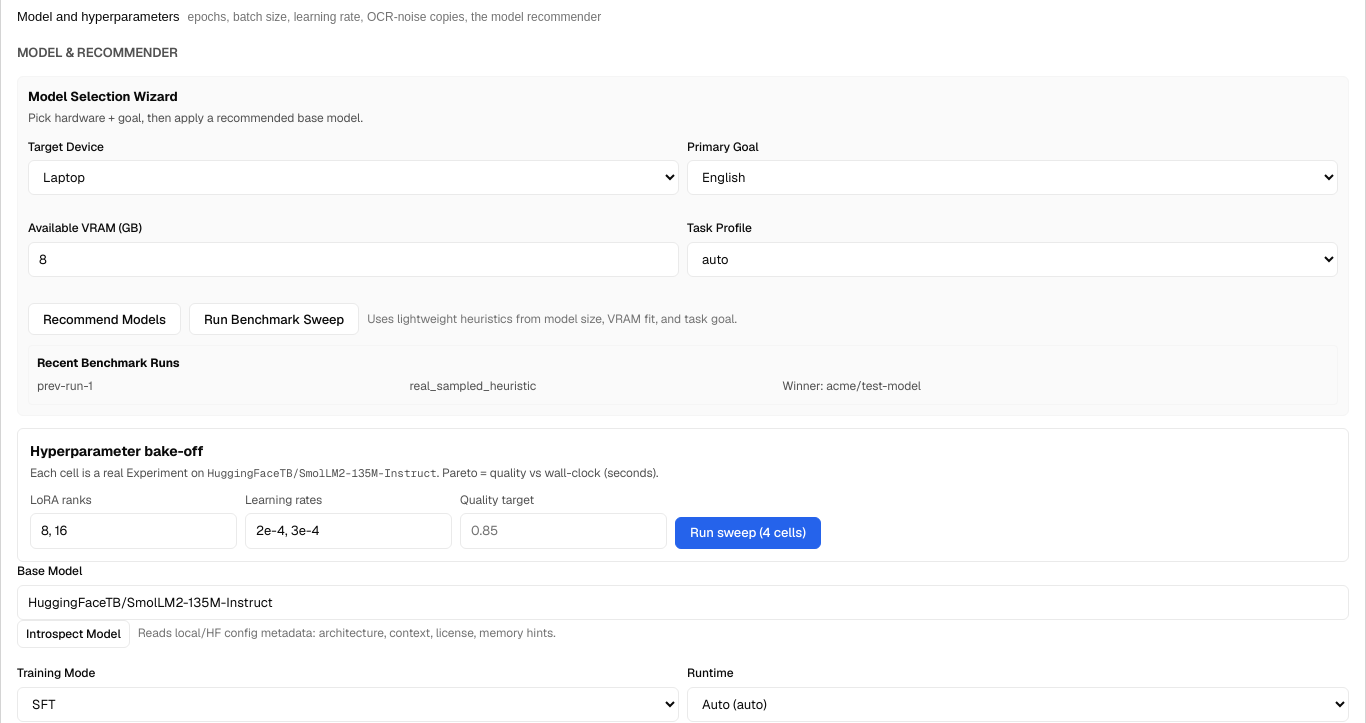
it: TrainingPanel model wizard › applies recommended model defaults from wizard card
The width and height of the screenshot is (1366, 723).
(page scrolled)
Click the button "Recommend Models". click: [104, 319]
box: [28,303,181,335]
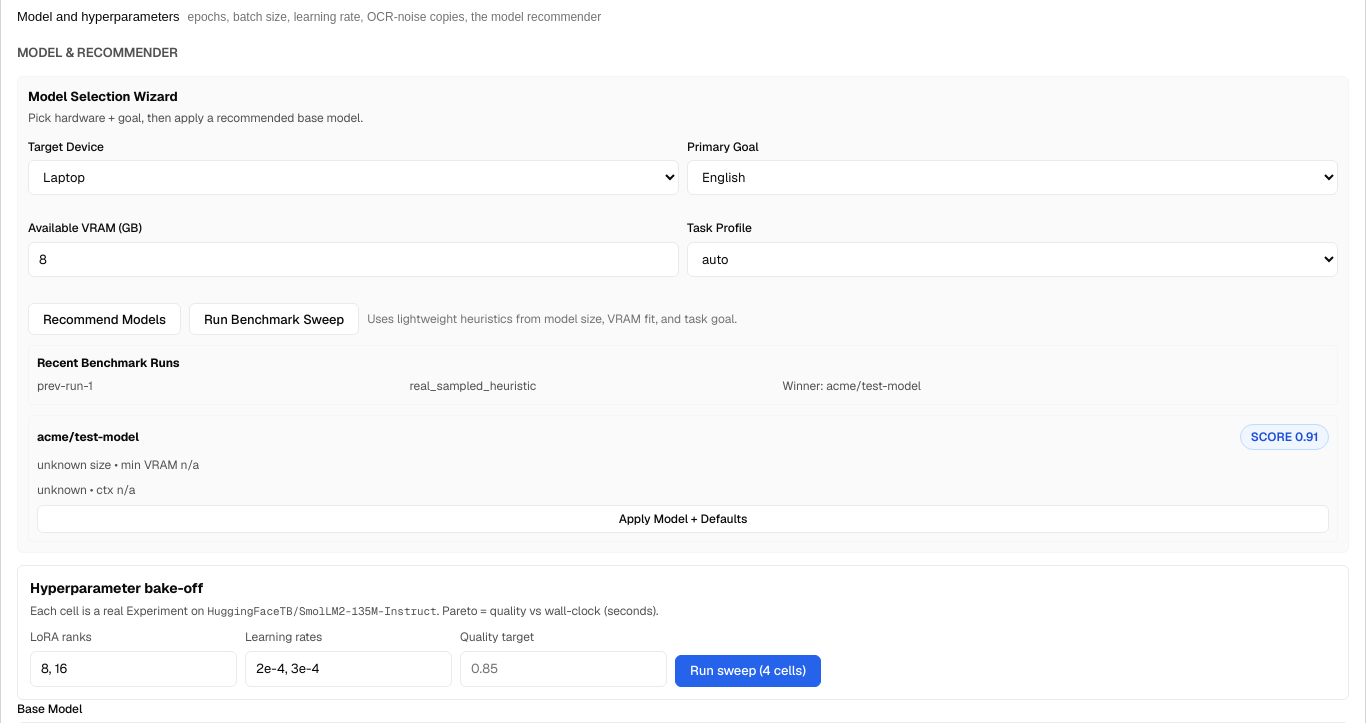
Result: the text "acme/test-model" is shown at [37,428,139,446]
Click the button "Apply Model + Defaults". click: [683, 519]
box: [37,505,1329,533]
(page scrolled)
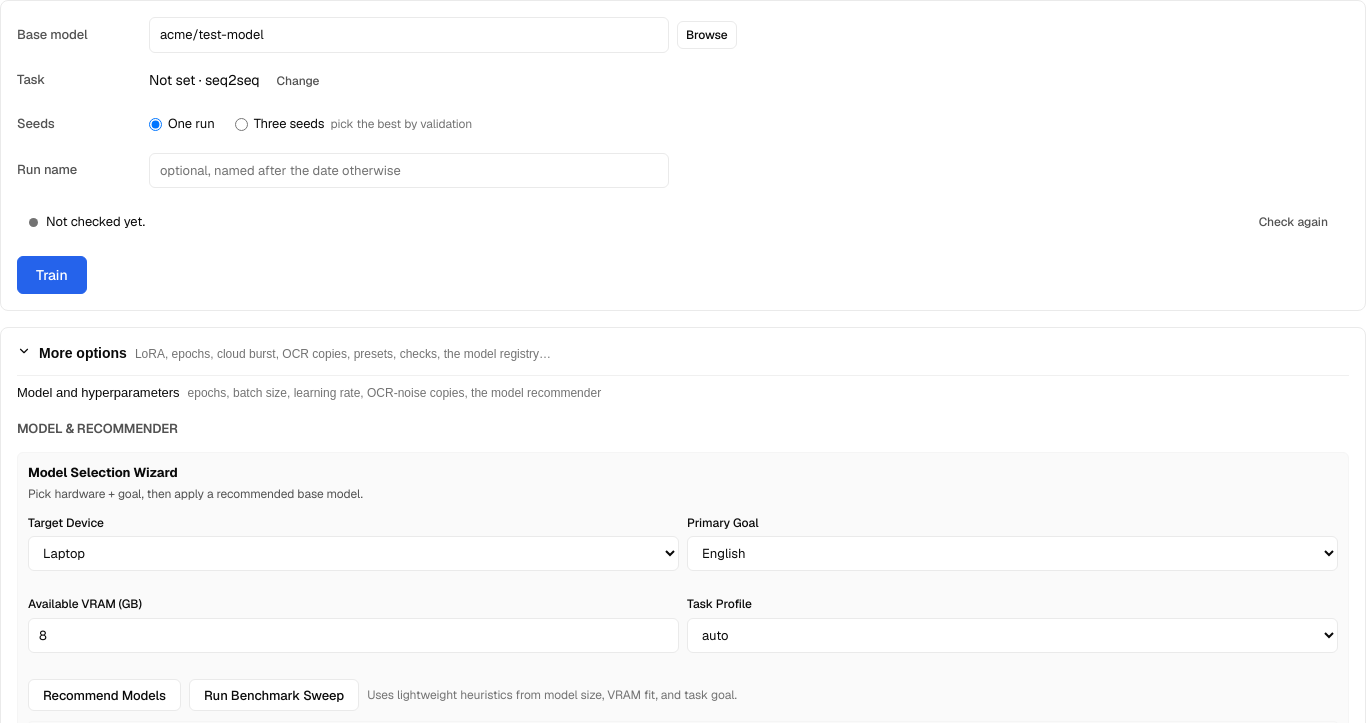
Result: the field with test id "train-form-base-model" holds "acme/test-model" at [149,17,669,52]
